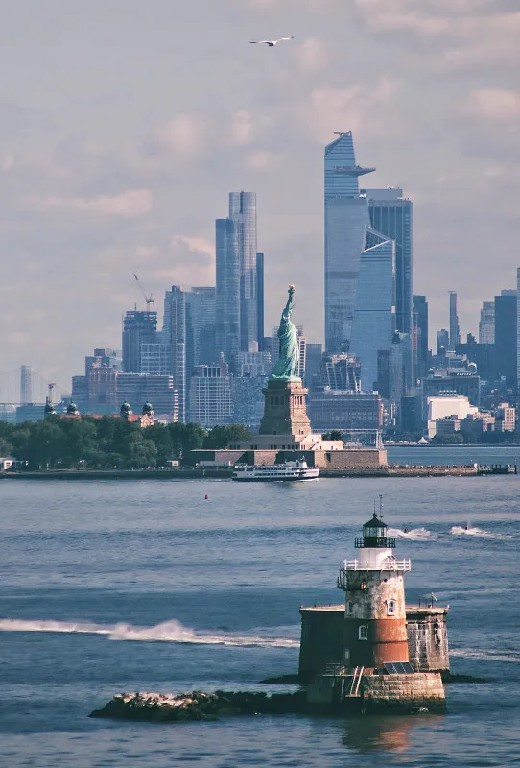SL: (259, 285, 312, 434)
